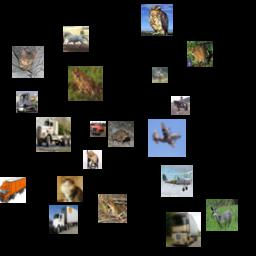airplane: (148, 119, 186, 157), (161, 165, 193, 197)
bird: (141, 4, 173, 36)
cat: (12, 46, 44, 78), (57, 176, 83, 202)
deer: (206, 199, 238, 231), (152, 67, 168, 83)
dog: (83, 150, 102, 169)
frog: (68, 66, 103, 101), (98, 194, 127, 223), (187, 41, 213, 67), (108, 121, 134, 147)
truck: (36, 117, 71, 152), (166, 212, 201, 247), (49, 205, 78, 234), (0, 177, 26, 203), (16, 91, 38, 113), (90, 121, 106, 137)
